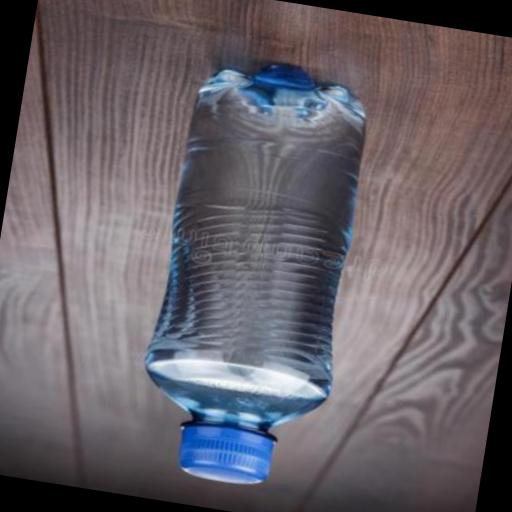Coca: (113, 48, 394, 512)
